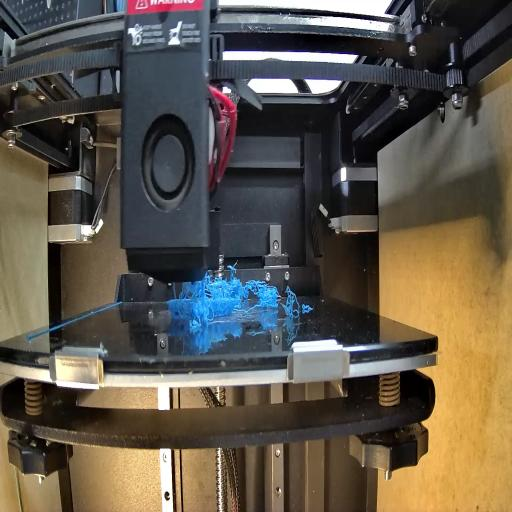spaghetti: (216, 276, 278, 309), (185, 279, 215, 335), (284, 286, 305, 321)
